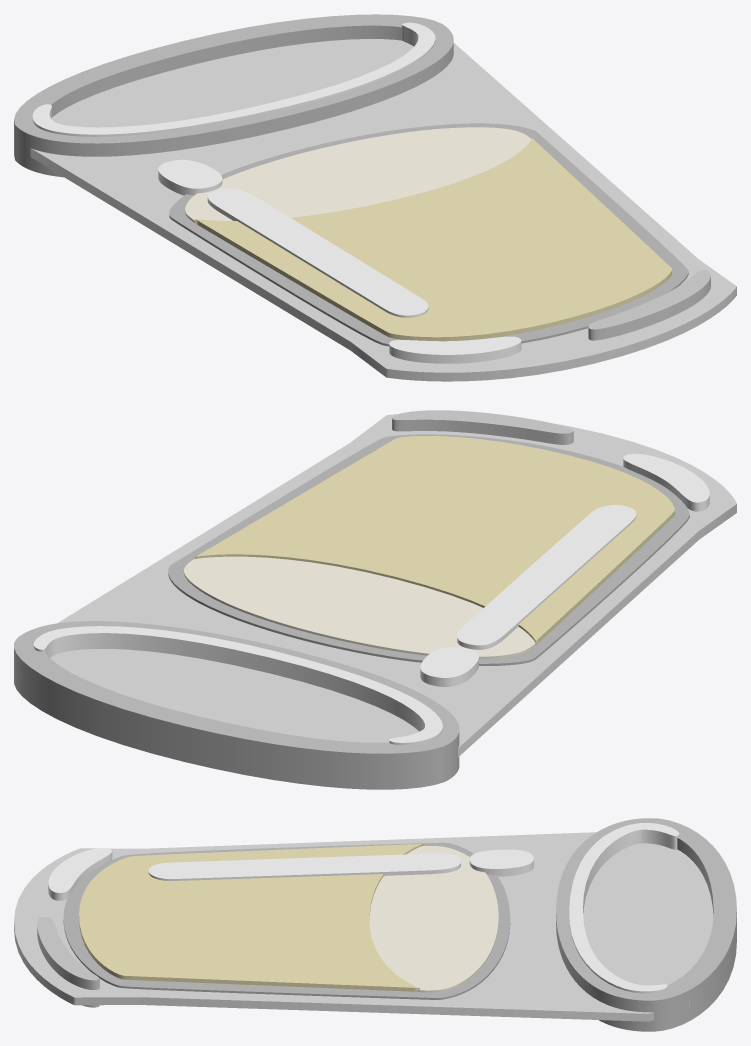
The model's file is emoji_u1f95b.glb.
3 renders of one model, top to bottom at view 1: azimuth 30°, elevation 25°; view 2: azimuth 150°, elevation 25°; view 3: azimuth 270°, elevation 25°, orthographic. The views are drawn at different scales.
Parts seen in each view (by area): view 1: emoji_u1f95b; view 2: emoji_u1f95b; view 3: emoji_u1f95b.
Boxes of the visible parts, box(x1,y1,x2,y2) form: emoji_u1f95b: box(14, 14, 736, 381); emoji_u1f95b: box(14, 410, 736, 789); emoji_u1f95b: box(14, 818, 736, 1031).
Bounding box in the file's own units: 0.0203 × 0.0018 × 0.0337.
